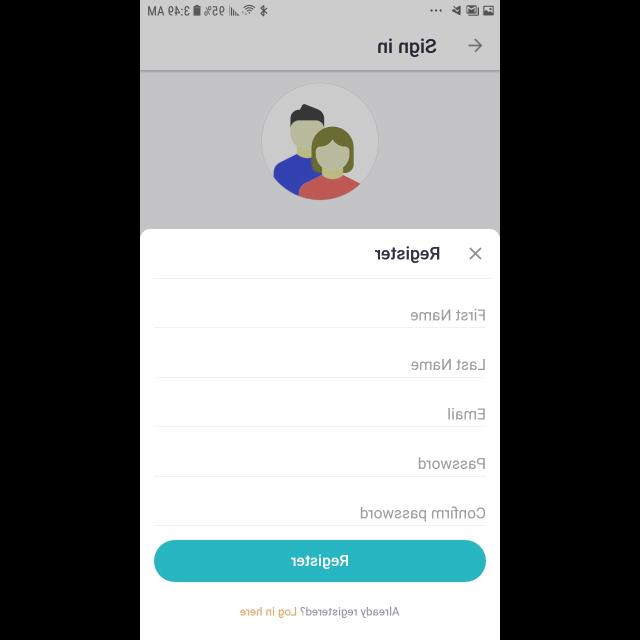icon: (468, 39, 482, 53), (468, 248, 482, 260)
image: (261, 83, 379, 201)
input: (154, 506, 486, 526), (154, 408, 486, 428), (154, 358, 486, 378), (154, 308, 486, 328), (154, 458, 486, 477)
panel: (140, 228, 500, 640)
text: (360, 506, 484, 522), (240, 606, 400, 618), (374, 246, 440, 264), (378, 38, 436, 58), (411, 309, 485, 321), (418, 458, 486, 470), (411, 360, 485, 370), (448, 408, 484, 420)
textbutton: (154, 540, 486, 582)
uppertaskbar: (140, 1, 500, 18)
